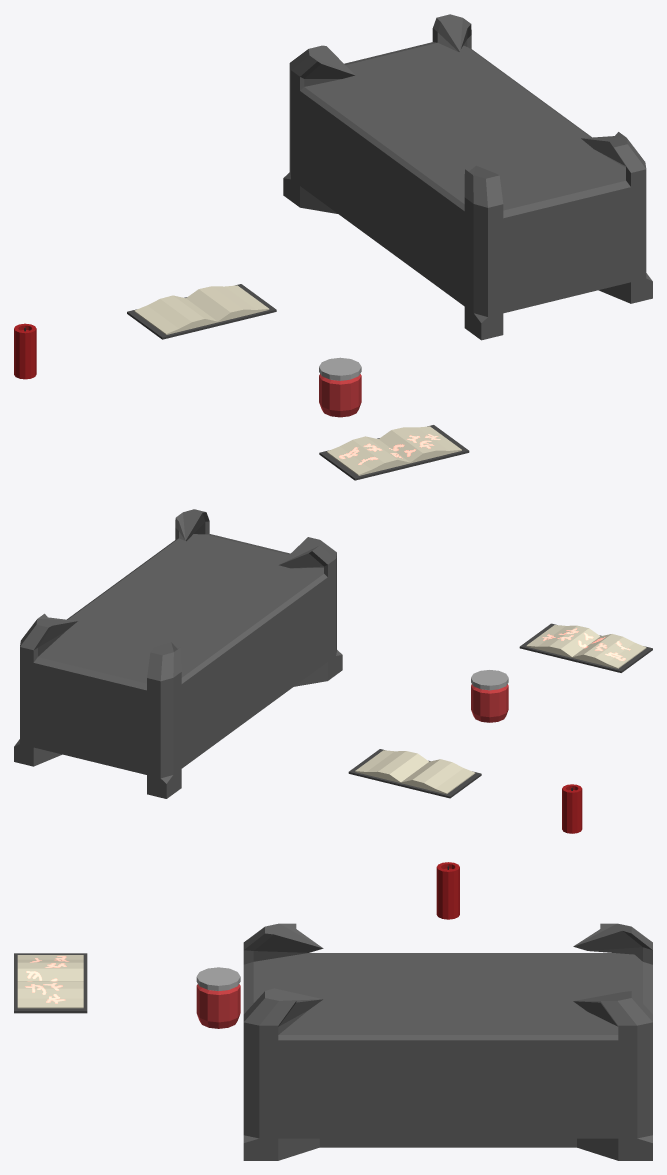
File: Demon.fbx
3 renders of one model, top to bottom at view 1: azimuth 30°, elevation 25°; view 2: azimuth 150°, elevation 25°; view 3: azimuth 270°, elevation 25°, orthographic. The views are drawn at different scales.
Visible parts, largest first — view 1: Altar, Book, Book_Finished, BloodJar, Candle; view 2: Altar, Book_Finished, Book, BloodJar, Candle; view 3: Altar, Book_Finished, BloodJar, Candle.
Part boxes in pixels (<box>): Altar: <box>283,14,652,340</box>; Book: <box>127,284,276,339</box>; Book_Finished: <box>319,425,469,480</box>; BloodJar: <box>319,357,361,417</box>; Candle: <box>14,323,36,379</box>; Altar: <box>14,509,342,798</box>; Book_Finished: <box>519,623,652,672</box>; Book: <box>348,749,481,798</box>; BloodJar: <box>471,670,508,722</box>; Candle: <box>562,784,582,833</box>; Altar: <box>243,923,652,1160</box>; Book_Finished: <box>14,953,87,1013</box>; BloodJar: <box>196,967,240,1028</box>; Candle: <box>436,862,459,919</box>.
Size of the model in its own units: 941 by 937 by 294.
